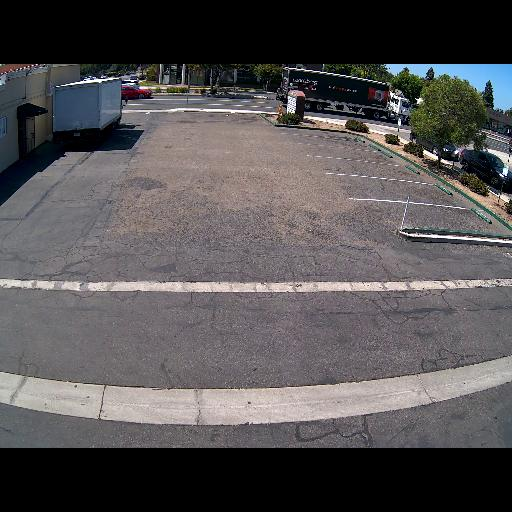car: (275, 65, 422, 127), (49, 76, 128, 140), (457, 146, 512, 195), (408, 123, 459, 163), (120, 83, 153, 99)
